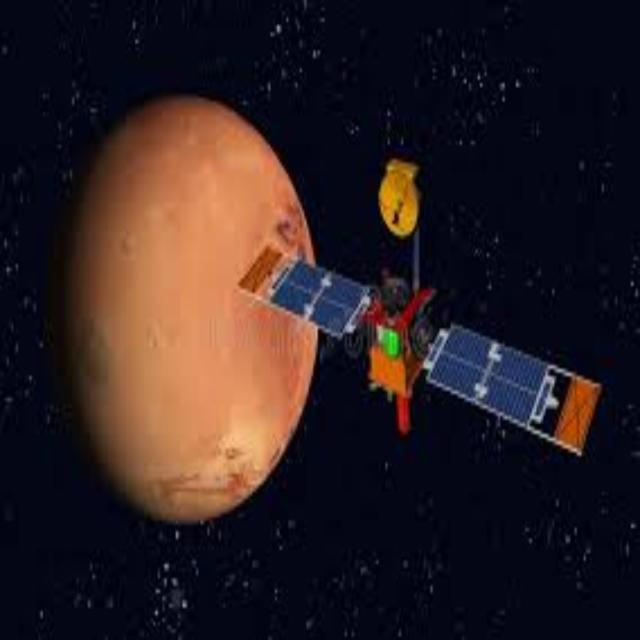sat: (246, 149, 591, 501)
